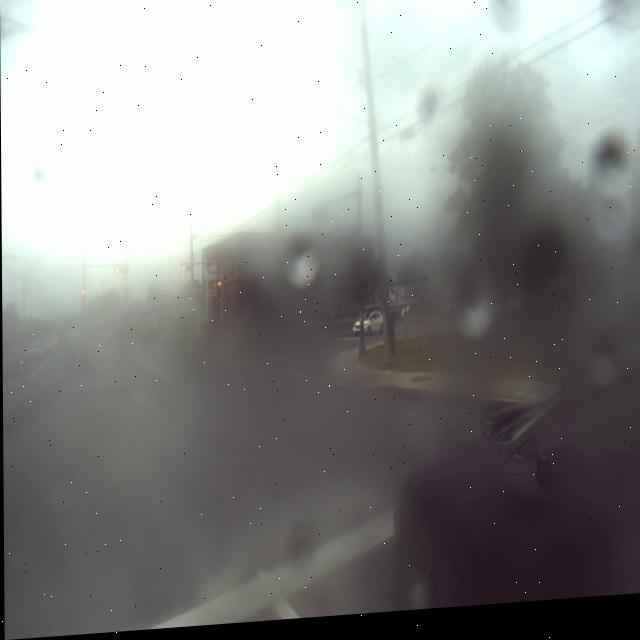car: (2, 340, 29, 379)
